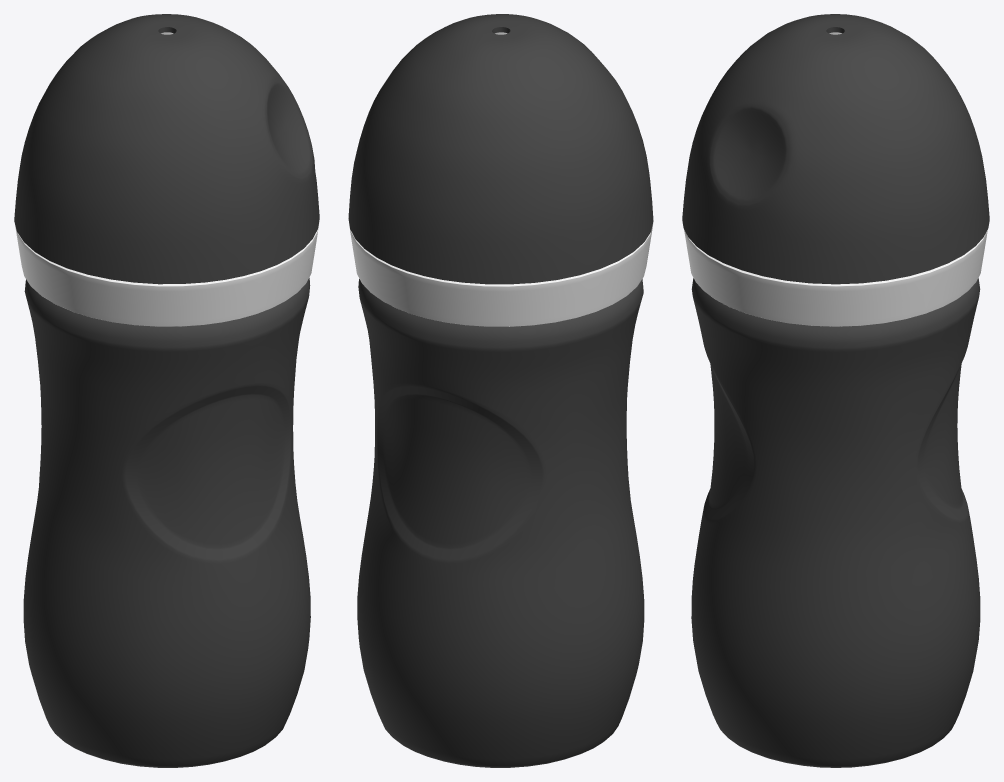
The model's file is Bottle_9.glb.
The picture shows the model from 3 angles, left to right: view 1: azimuth 30°, elevation 25°; view 2: azimuth 150°, elevation 25°; view 3: azimuth 270°, elevation 25°; orthographic projection.
Parts seen in each view (by area): view 1: SCF053_18; view 2: SCF053_18; view 3: SCF053_18.
Part boxes in pixels (x1,y1,x2,y2): SCF053_18: (14, 14, 319, 767); SCF053_18: (348, 14, 653, 767); SCF053_18: (682, 14, 989, 767).
Size of the model in its own units: 0.0703 by 0.1756 by 0.0707.
Materials: 4 (2 with a texture image).
